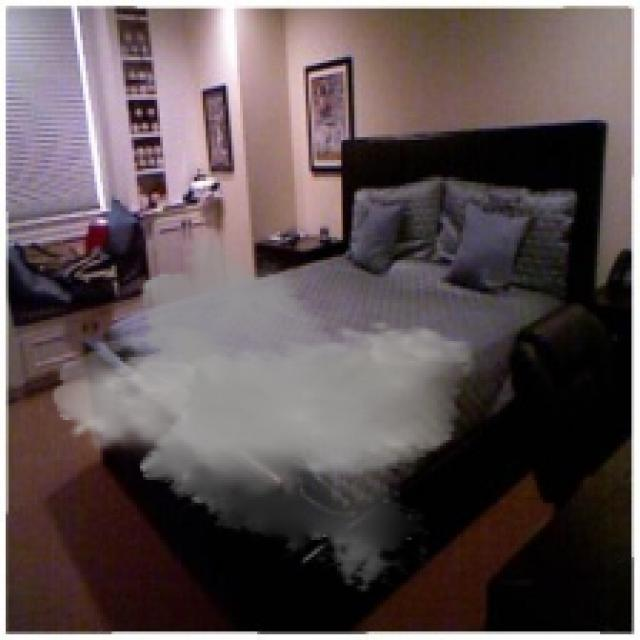smoke: (52, 226, 477, 594)
